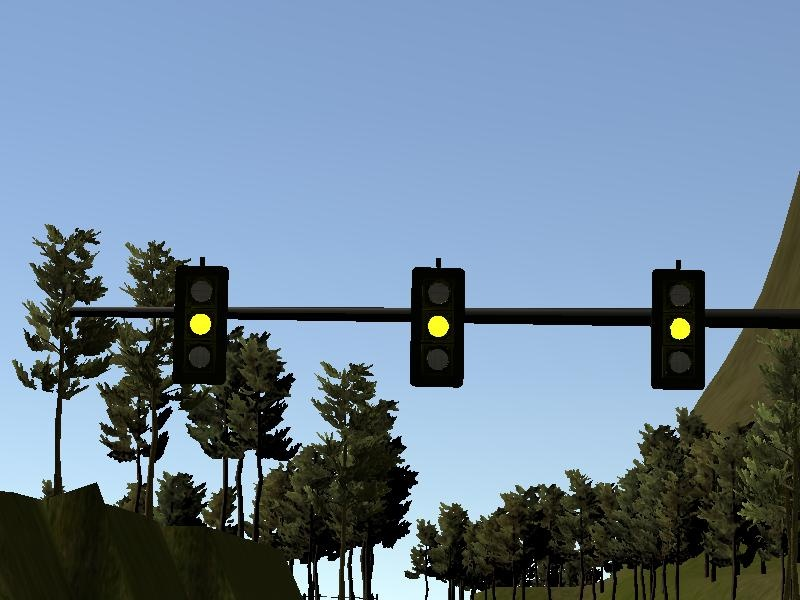YELLOW: (171, 261, 232, 387), (649, 265, 706, 390), (410, 267, 466, 390)
